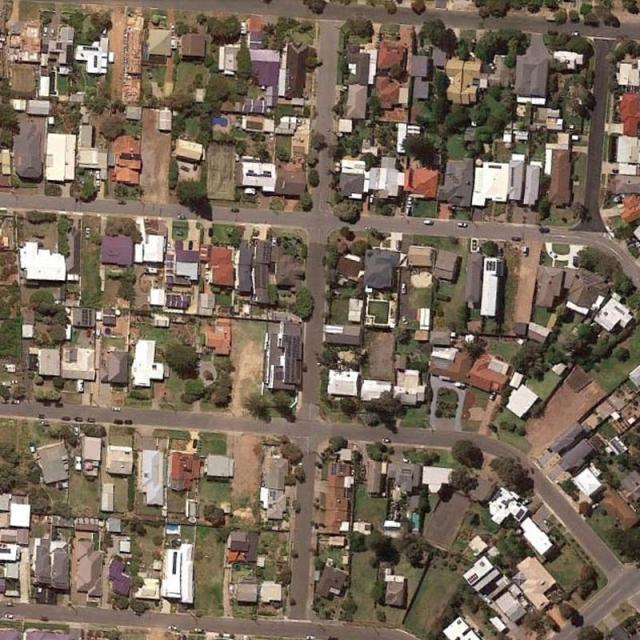vehicle: (511, 235, 522, 245), (522, 245, 529, 258), (422, 219, 434, 226), (10, 399, 22, 406), (112, 418, 123, 425), (4, 613, 15, 620), (490, 391, 497, 402), (75, 417, 84, 425), (457, 222, 467, 229), (86, 417, 96, 424), (112, 407, 122, 414), (406, 205, 413, 215), (102, 26, 108, 37), (368, 193, 374, 204), (402, 314, 408, 325), (61, 415, 70, 422), (125, 419, 134, 426), (1, 398, 10, 405), (380, 437, 390, 443), (306, 635, 318, 640), (271, 236, 277, 246), (401, 282, 406, 294), (402, 456, 410, 463), (571, 30, 580, 36), (40, 615, 49, 621), (36, 413, 46, 418), (540, 228, 550, 233), (95, 170, 100, 179), (10, 380, 19, 385), (43, 26, 47, 37), (178, 214, 186, 219), (230, 207, 238, 212), (407, 196, 412, 204), (118, 202, 126, 206)
